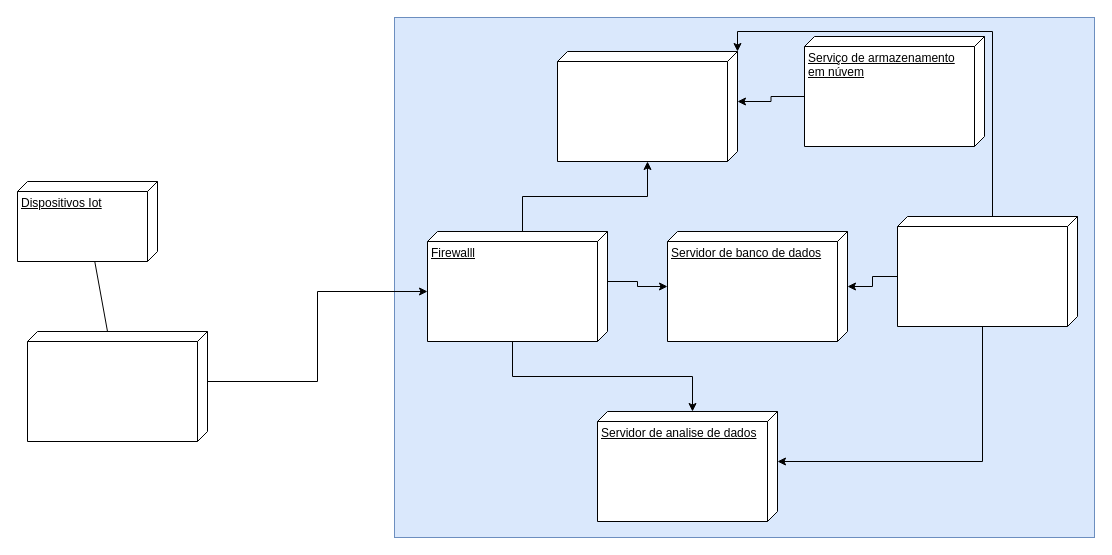
Image size: 1112x555. Some labels were removed from this diagram. Each missing label, with the centre of its shape:
"No-break" goes at (987,271).
"Robôs" goes at (117,386).
"Servidor de aplicação" goes at (647,106).
